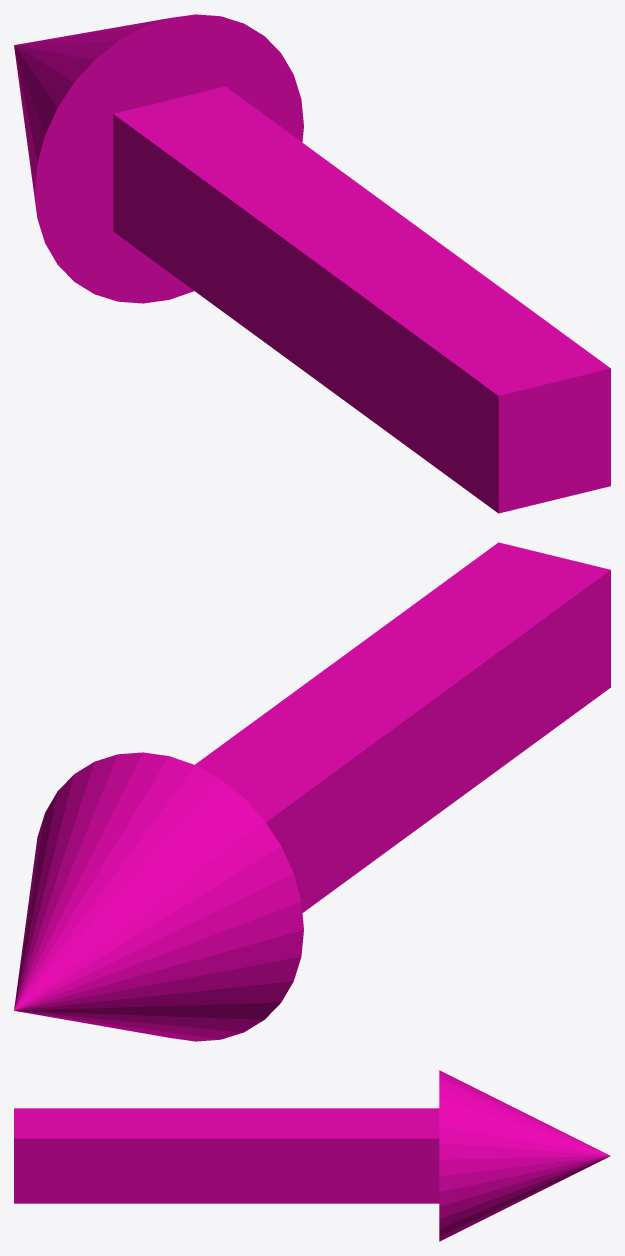
File: purple_arrow.glb
The picture shows the model from 3 angles, top to bottom: view 1: azimuth 30°, elevation 25°; view 2: azimuth 150°, elevation 25°; view 3: azimuth 270°, elevation 25°; orthographic projection. The views are drawn at different scales.
Visible parts, largest first — view 1: Cube.001, Cube.002; view 2: Cube.001, Cube.002; view 3: Cube.001, Cube.002.
Part boxes in pixels (x1,y1,x2,y2): Cube.001: [113, 86, 610, 513]; Cube.002: [14, 14, 303, 303]; Cube.001: [195, 542, 610, 912]; Cube.002: [14, 752, 303, 1041]; Cube.001: [14, 1108, 439, 1203]; Cube.002: [439, 1070, 610, 1241].
Bounding box in the file's own units: 2 × 2 × 6.96.
